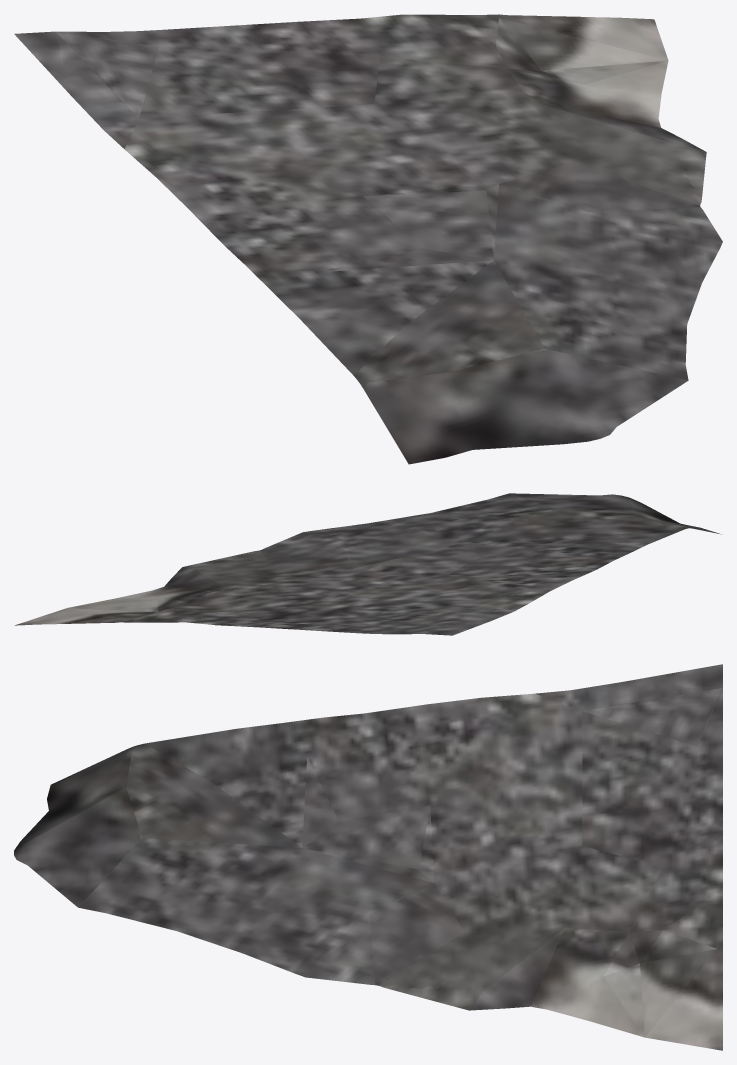
3 views of the same model, one above another, from view 1: azimuth 30°, elevation 25°; view 2: azimuth 150°, elevation 25°; view 3: azimuth 270°, elevation 25° (orthographic). The views are drawn at different scales.
Bounding box in the file's own units: 0.3546 × 0.075 × 0.3994.
1 material, 1 textured.
